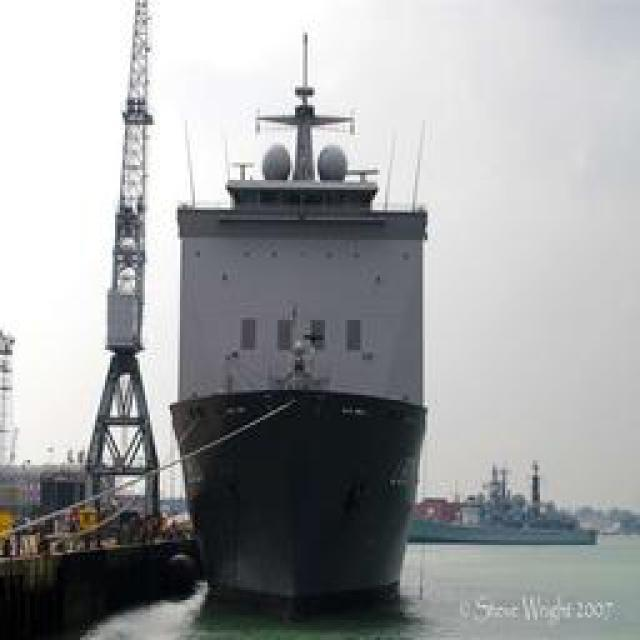Ship: (418, 496, 603, 546)
